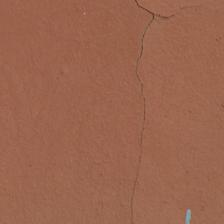Crack: (75, 0, 97, 141), (105, 25, 117, 137)
